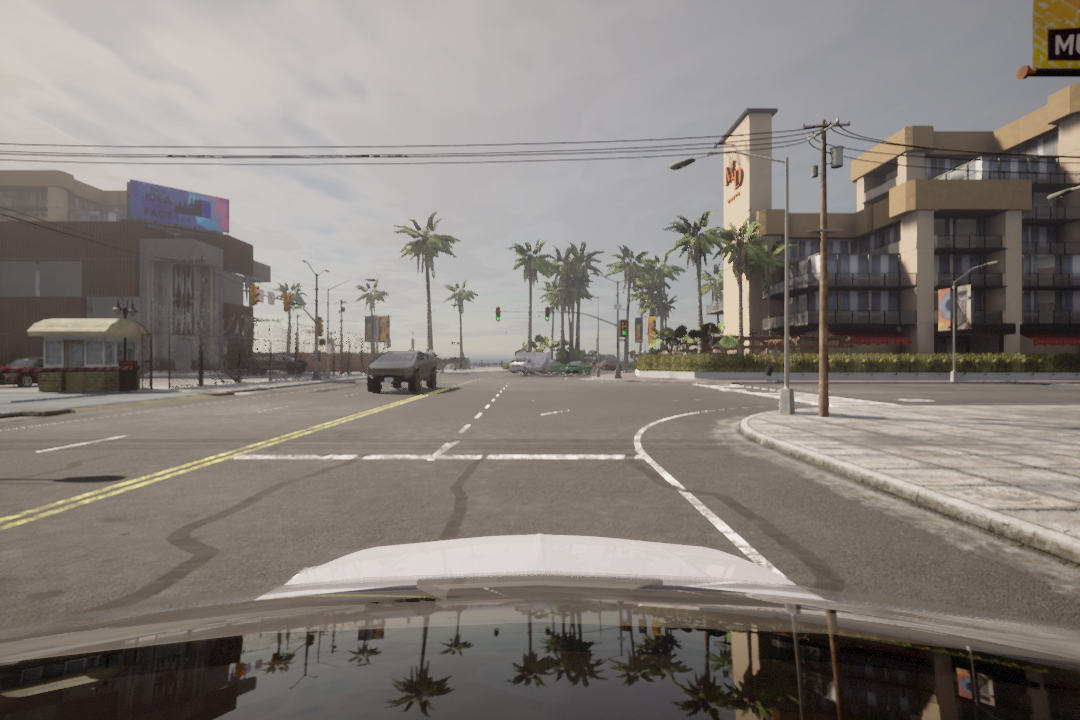TrafficLight: (620, 320, 629, 338), (494, 307, 502, 323), (544, 306, 552, 321)
